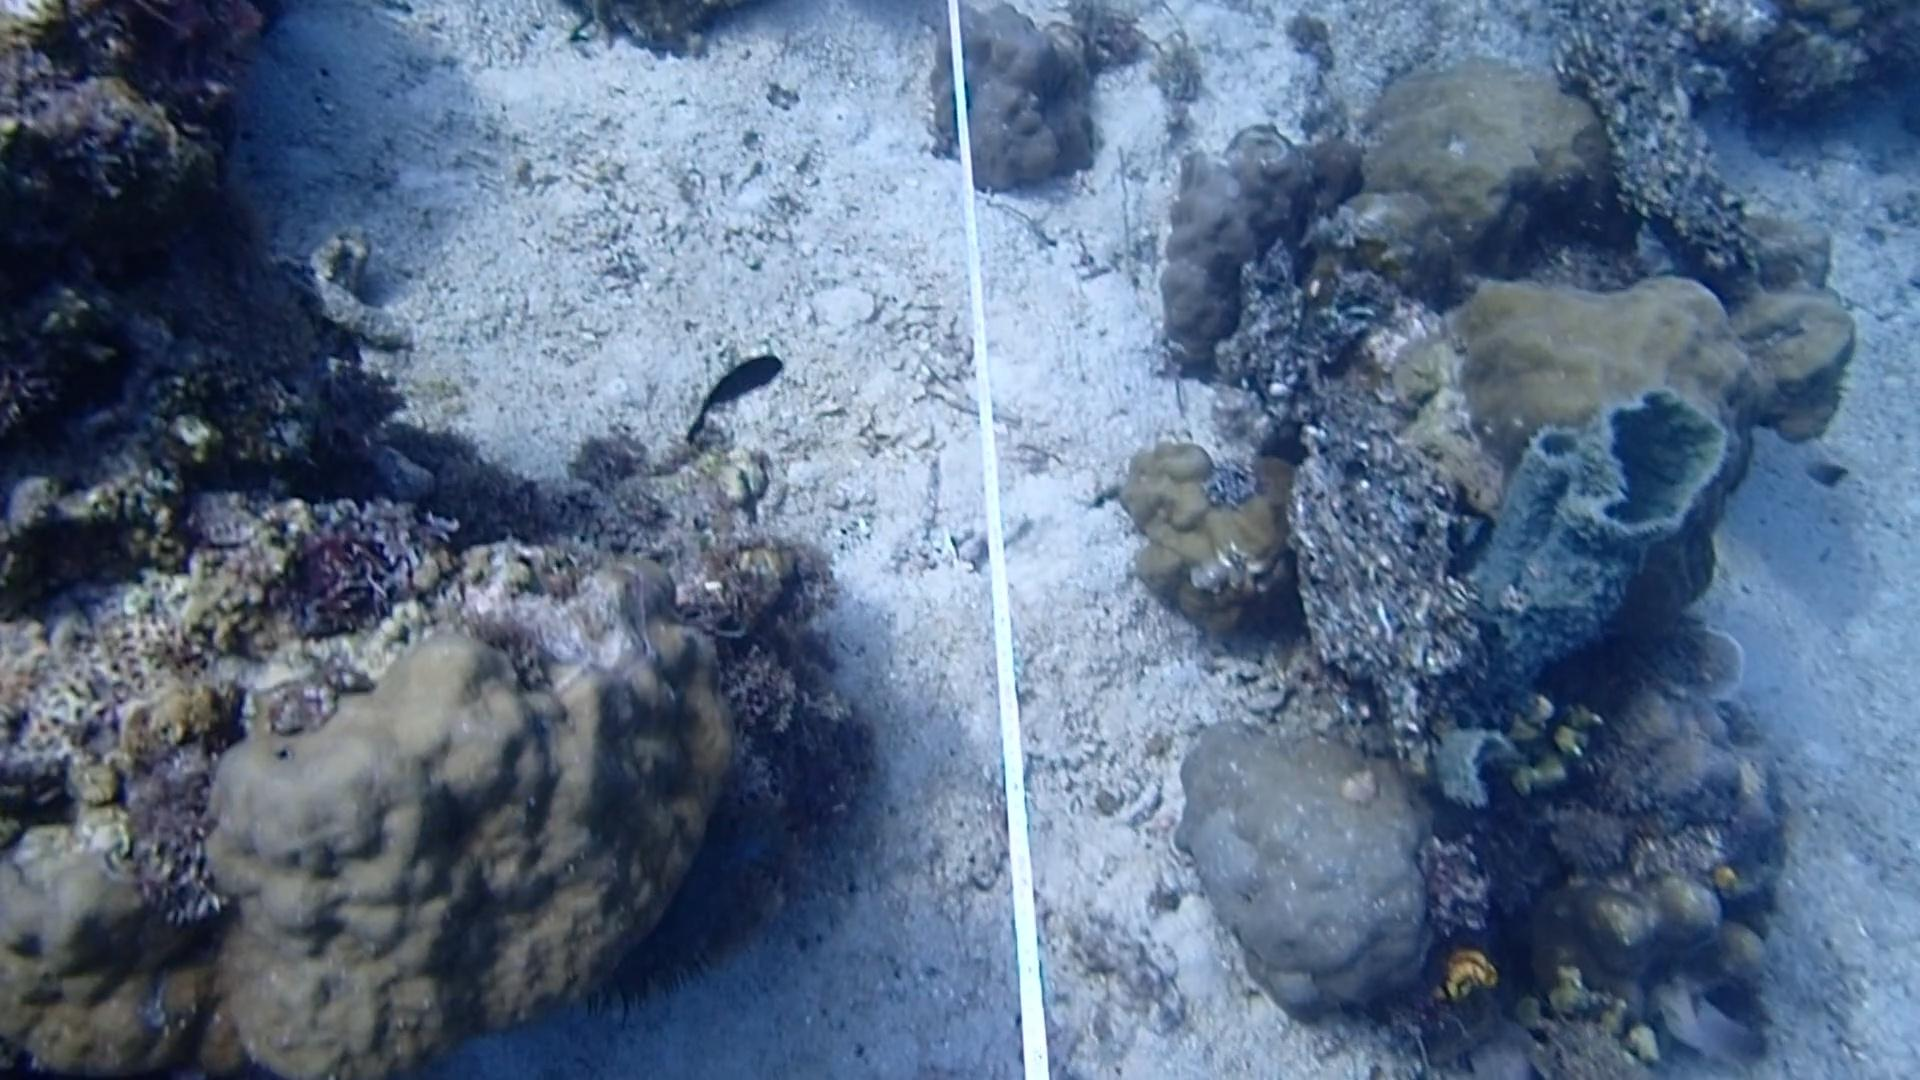Blue Nose Fish: (1656, 976, 1768, 1067)
Dark Fish: (676, 342, 789, 446)
